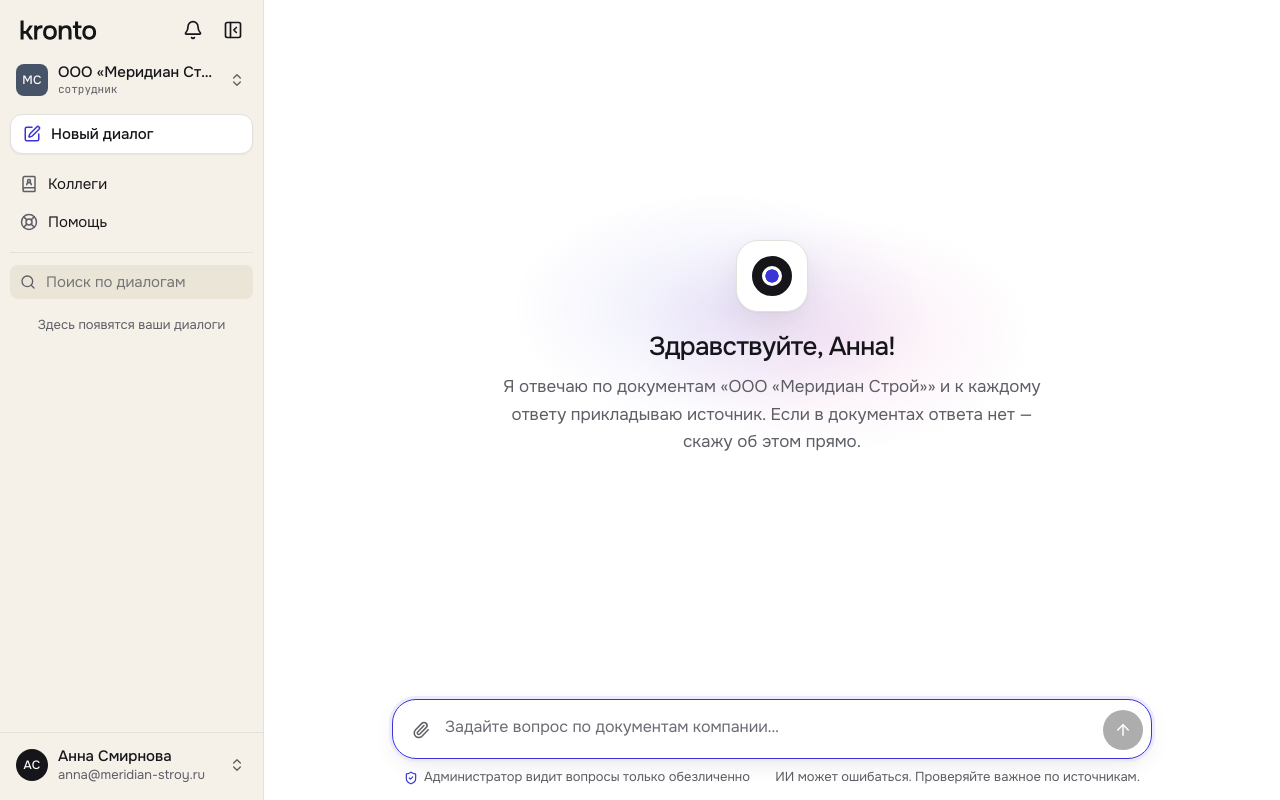
боковая панель › сворачивается и без доступа к хранилищу
The width and height of the screenshot is (1280, 800).
Click the button named "Свернуть панель": [233, 30] box [213,10,253,50]
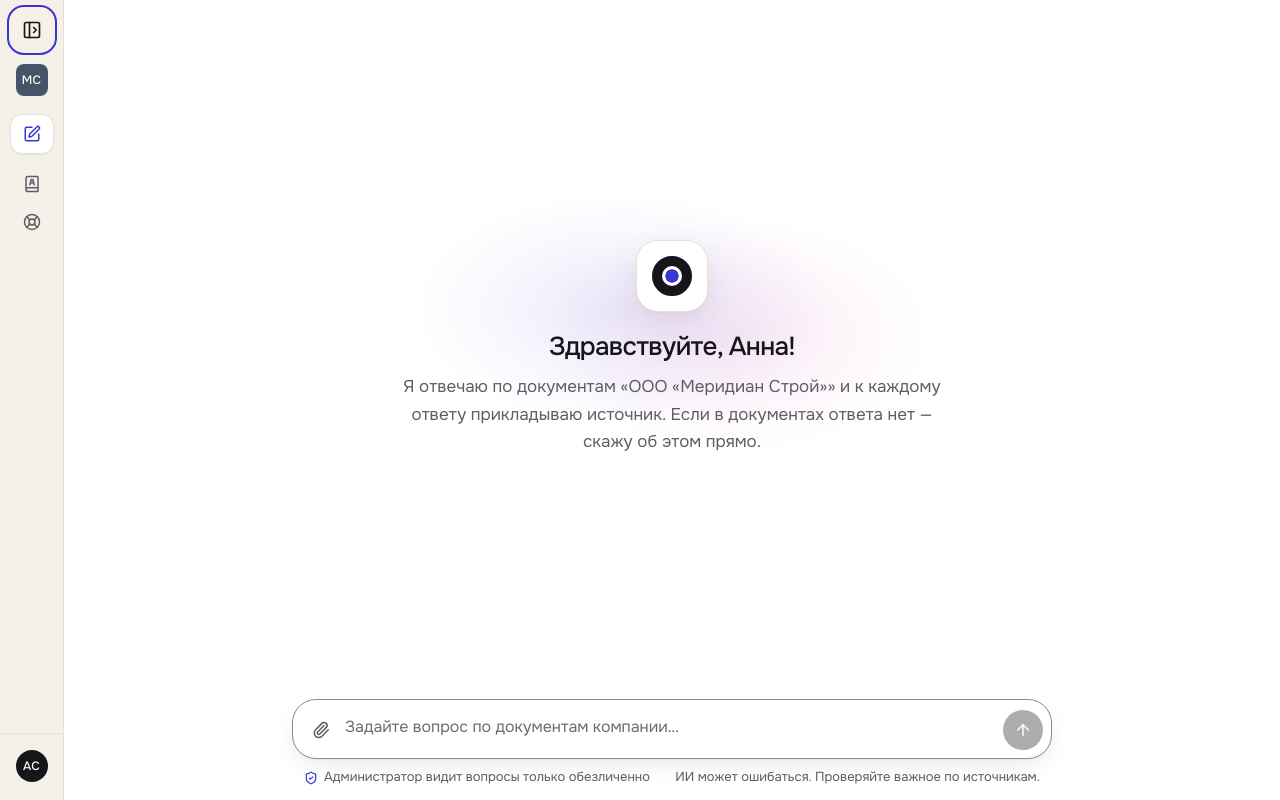
Expected: the button named "Развернуть панель" is shown, [12,10,52,50]
